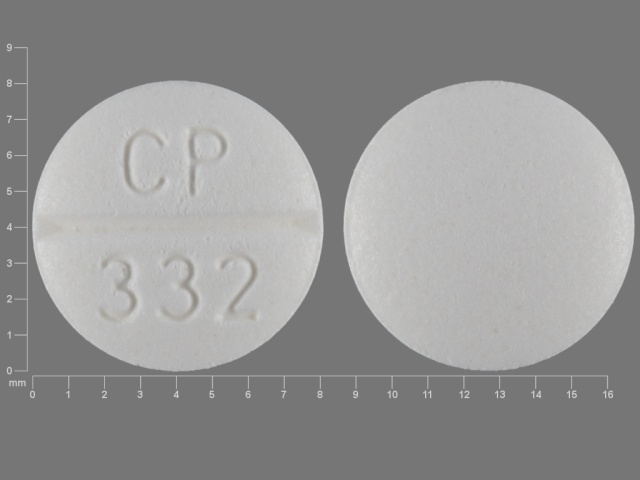2: (215, 250, 265, 325)
3: (96, 252, 139, 326), (157, 251, 199, 323)
C: (122, 127, 167, 193)
P: (182, 125, 230, 197)
|: (32, 211, 327, 244)
